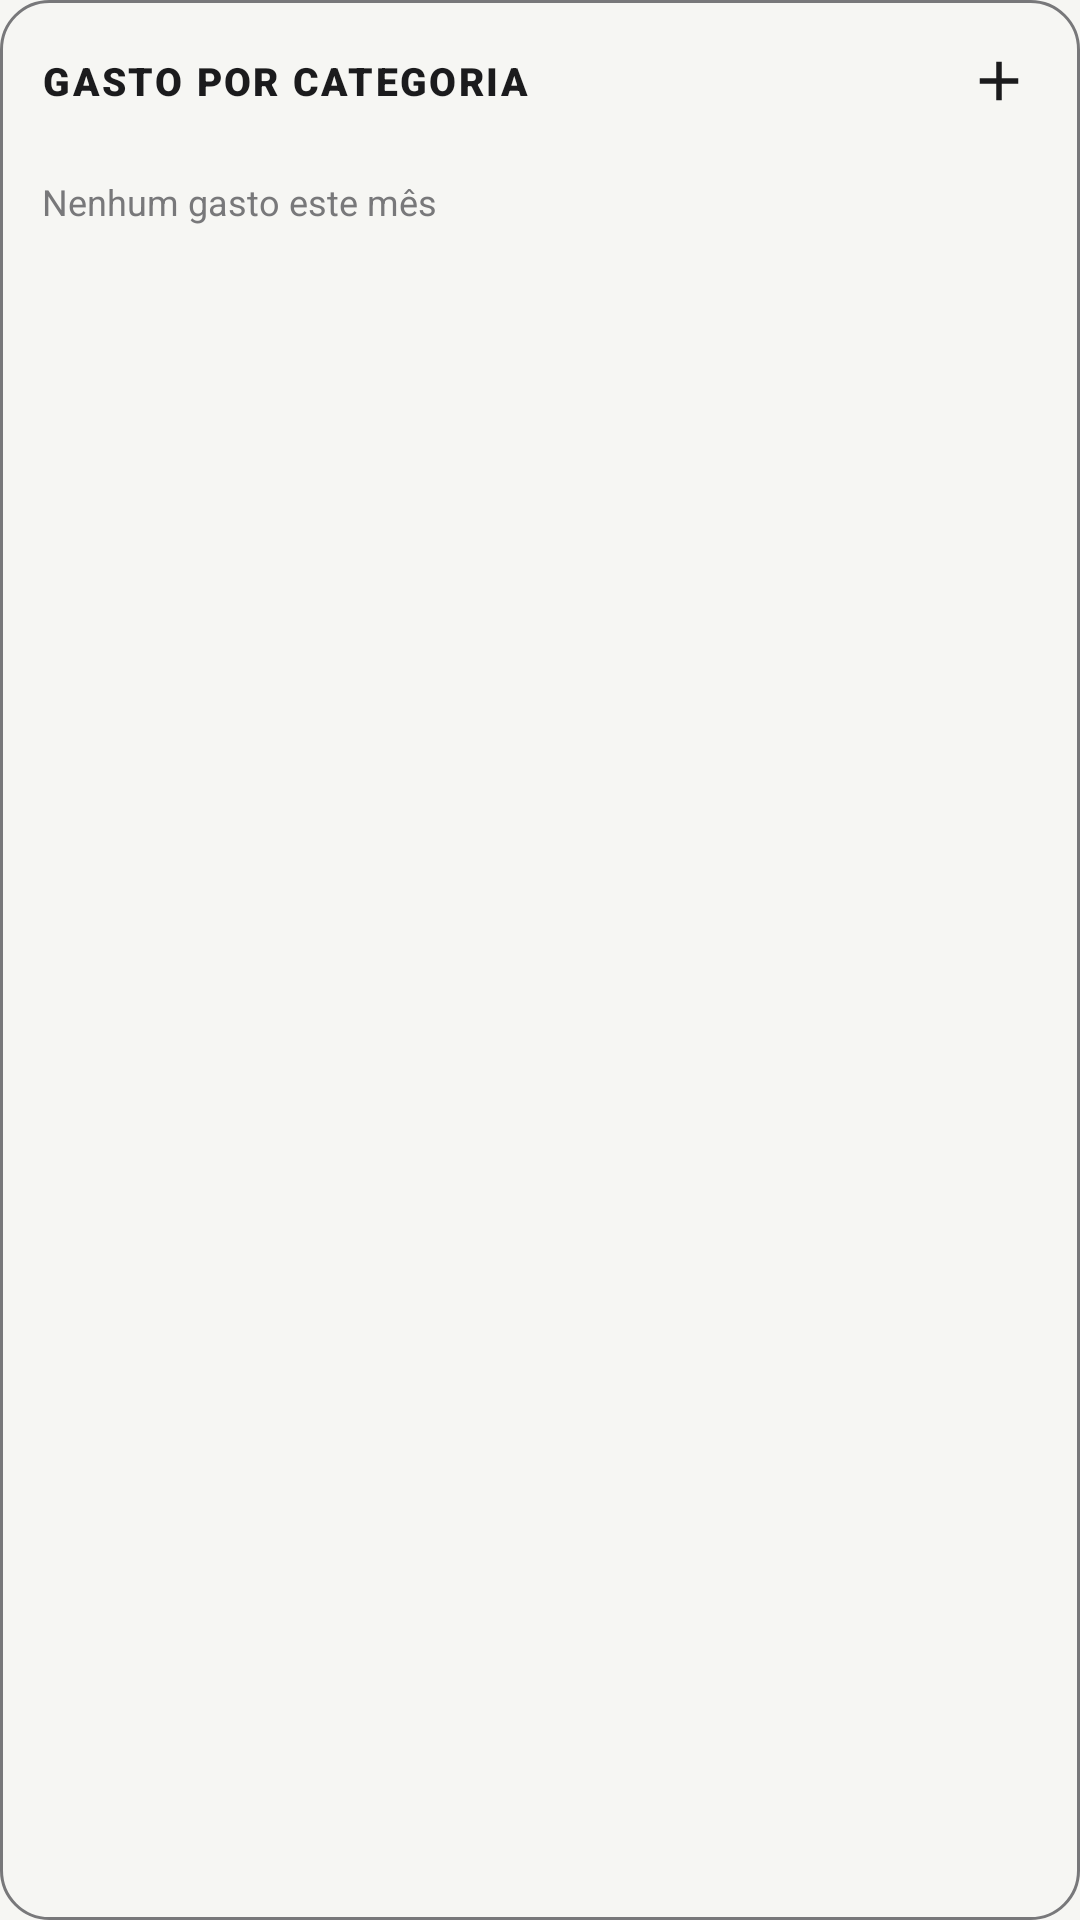

Where to tap for icons on this 1080 x 1920 app screen, as (x=x, y=y):
Novo lançamento: (x=999, y=81)
